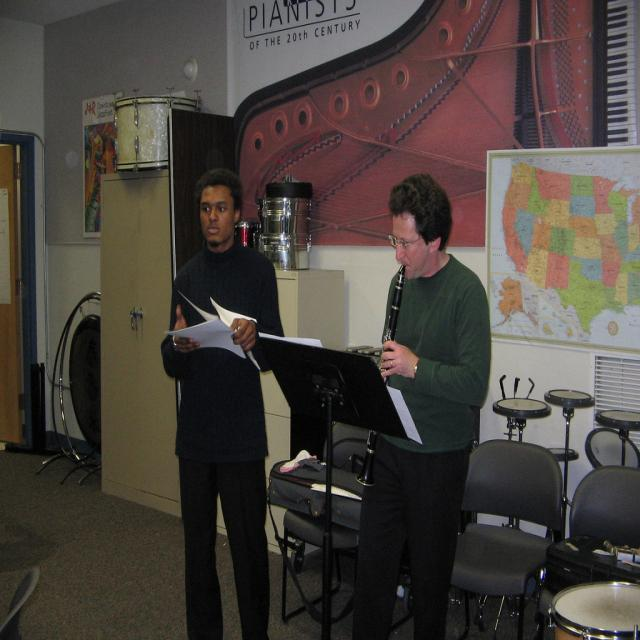clarinet: (354, 262, 410, 491)
drums: (474, 391, 640, 640)
